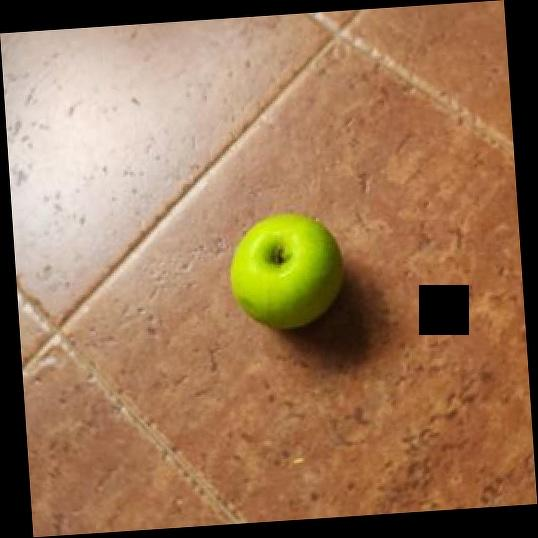green apple: (231, 213, 345, 332)
